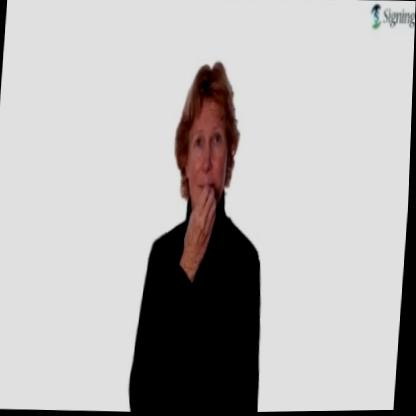Food: (166, 61, 251, 273)
